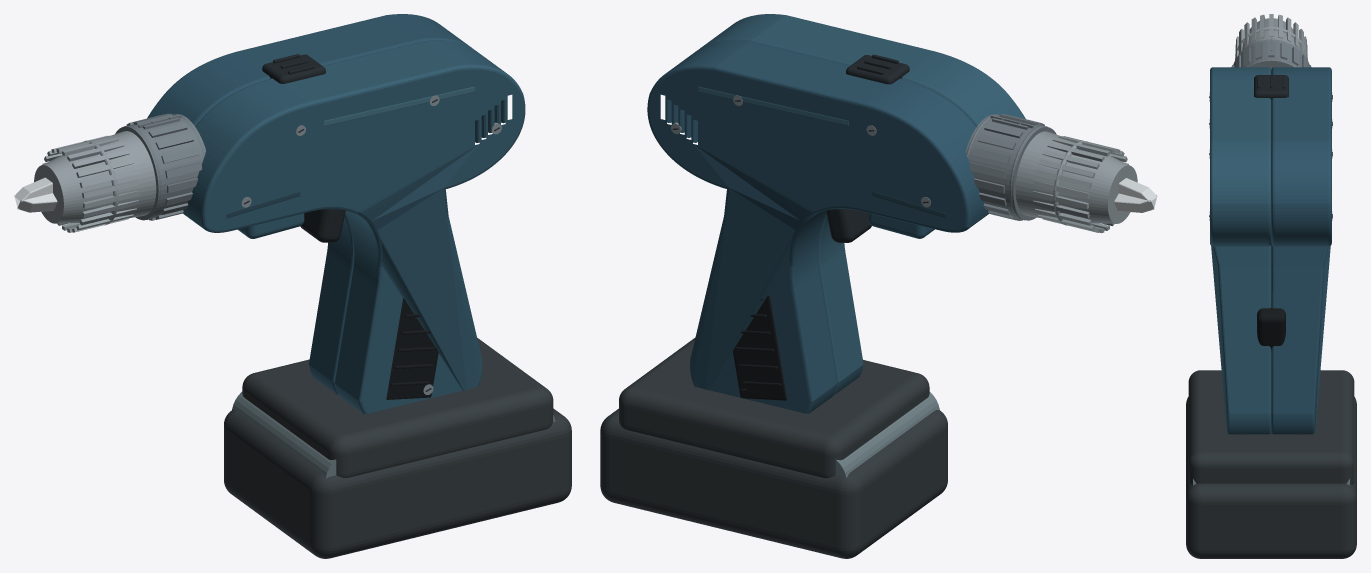
File: cordless_drill.glb
3 views of the same model, side by side, from view 1: azimuth 30°, elevation 25°; view 2: azimuth 150°, elevation 25°; view 3: azimuth 270°, elevation 25° (orthographic). The views are drawn at different scales.
Parts seen in each view (by area): view 1: right_housing, battery_shell, left_housing, chuck_body, torque_clutch, rubber_grip, battery_cells, speed_selector, trigger, chuck_jaws; view 2: left_housing, battery_shell, right_housing, chuck_body, torque_clutch, rubber_grip, battery_cells, speed_selector, trigger, chuck_jaws; view 3: battery_shell, right_housing, left_housing, torque_clutch, chuck_body, rubber_grip, speed_selector.
Boxes of the visible parts, x1,y1,x2,y2 form: right_housing: (182,40,525,413); battery_shell: (224,338,571,558); left_housing: (147,14,471,394); chuck_body: (34,131,156,232); torque_clutch: (115,113,205,220); rubber_grip: (386,298,438,399); battery_cells: (232,391,555,478); speed_selector: (262,54,325,83); trigger: (300,209,345,242); chuck_jaws: (14,177,57,212); left_housing: (647,40,988,413); battery_shell: (600,337,947,558); right_housing: (700,14,1025,394); chuck_body: (1015,131,1137,233); torque_clutch: (966,114,1056,220); rubber_grip: (733,295,786,400); battery_cells: (616,392,939,478); speed_selector: (846,54,909,84); trigger: (826,209,871,242); chuck_jaws: (1114,178,1157,212); battery_shell: (1186,370,1356,558); right_housing: (1209,67,1271,434); left_housing: (1271,67,1332,434); torque_clutch: (1231,38,1311,69); chuck_body: (1235,14,1307,59); rubber_grip: (1257,307,1285,351); speed_selector: (1254,75,1288,100).
Bounding box in the file's own units: 3.93 × 3.42 × 1.36.
